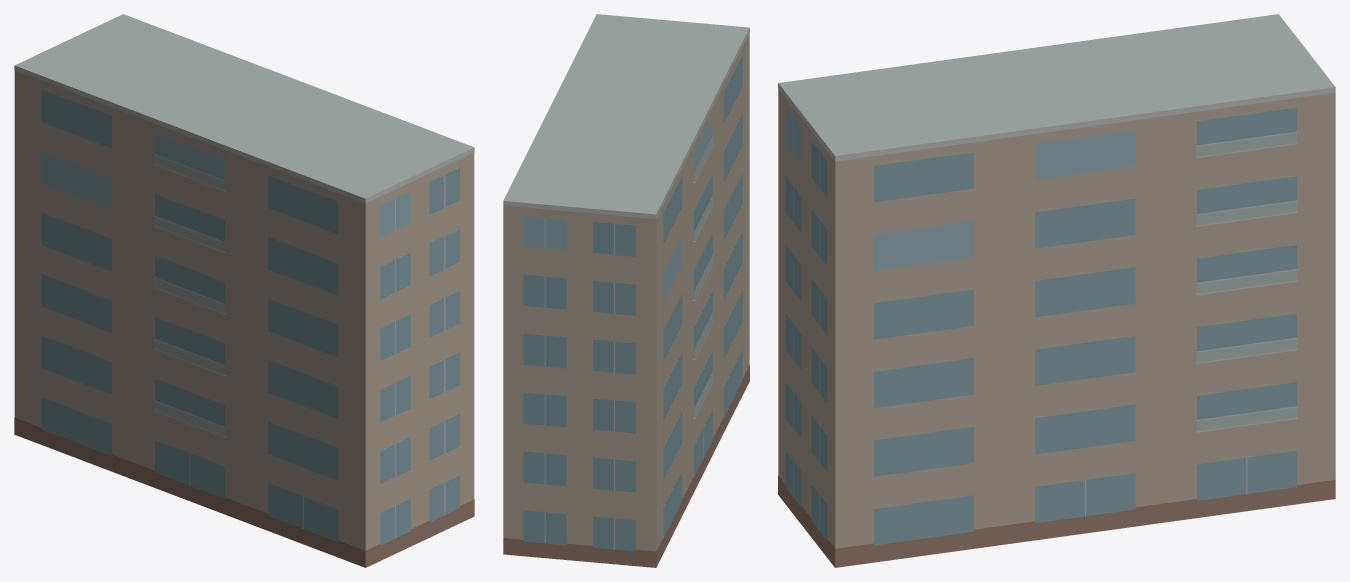
The model's file is survey-upis-32919115.glb.
The picture shows the model from 3 angles, left to right: view 1: azimuth 30°, elevation 25°; view 2: azimuth 150°, elevation 25°; view 3: azimuth 270°, elevation 25°; orthographic projection. The views are drawn at different scales.
Parts seen in each view (by area): view 1: survey-upis-32919115.tmp; view 2: survey-upis-32919115.tmp; view 3: survey-upis-32919115.tmp.
Boxes of the visible parts, <box> form: survey-upis-32919115.tmp: <box>14,14,474,567</box>; survey-upis-32919115.tmp: <box>503,14,749,567</box>; survey-upis-32919115.tmp: <box>778,14,1335,567</box>.
Size of the model in its own units: 13.7 by 18.5 by 22.71.
